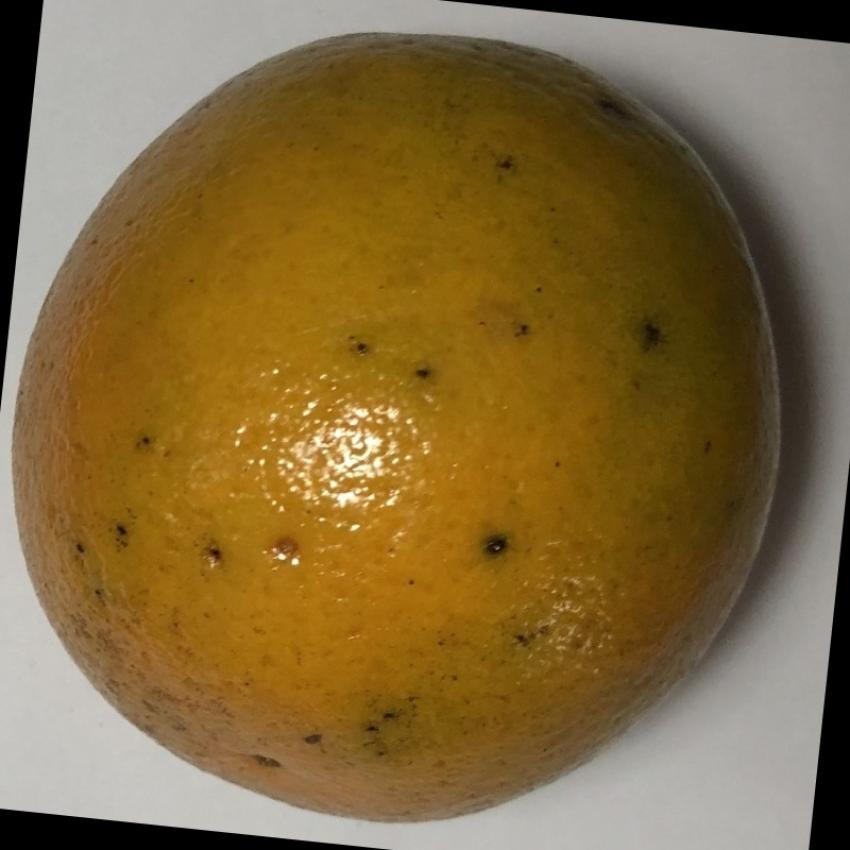Mal estado: (5, 27, 830, 834)
